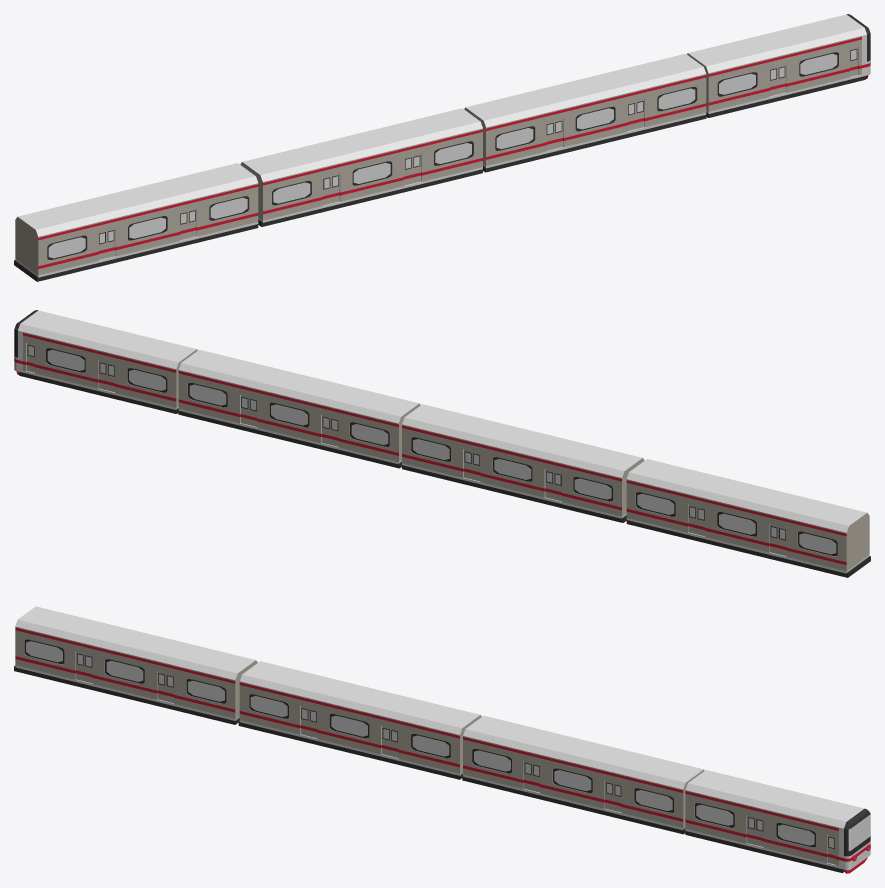
Rendered from keretaluar.fbx.
The picture shows the model from 3 angles, top to bottom: view 1: azimuth 30°, elevation 25°; view 2: azimuth 150°, elevation 25°; view 3: azimuth 330°, elevation 25°; orthographic projection.
Visible parts, largest first — view 1: Cube.002; view 2: Cube.002; view 3: Cube.002.
Part boxes in pixels (left/top/right/bottom): Cube.002: left=14, top=14, right=870, bottom=281; Cube.002: left=14, top=310, right=870, bottom=577; Cube.002: left=14, top=606, right=870, bottom=873.
Size of the model in its own units: 14087 by 844 by 674.
